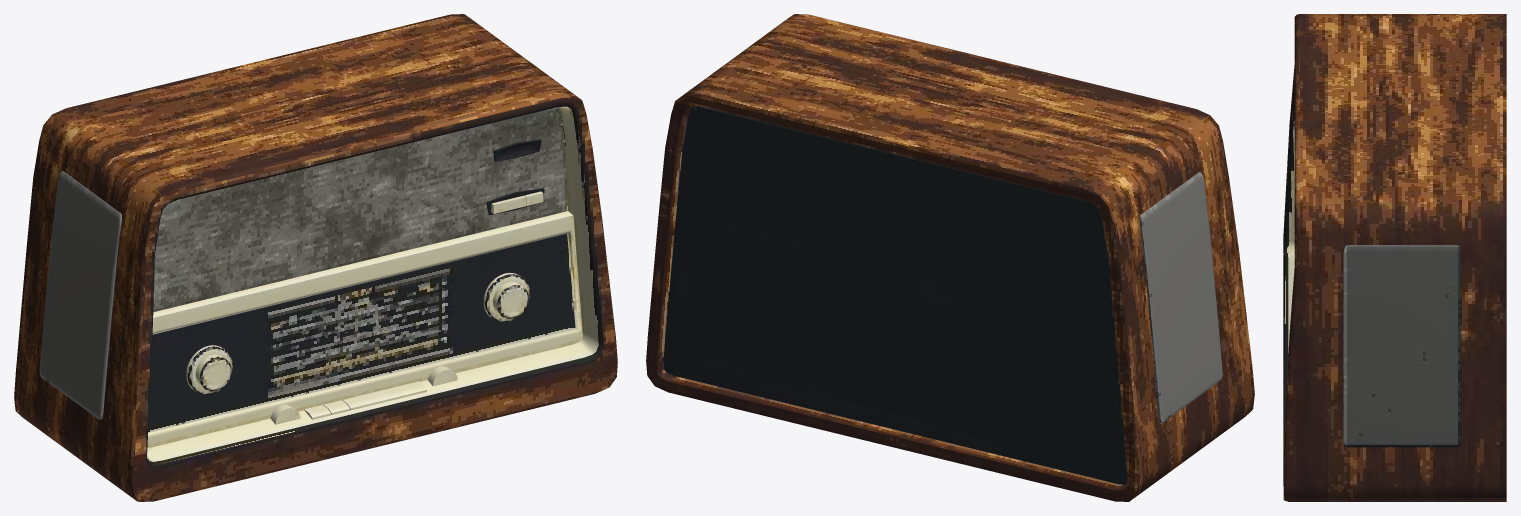
Rendered from g_radio.glb.
The picture shows the model from 3 angles, left to right: view 1: azimuth 30°, elevation 25°; view 2: azimuth 150°, elevation 25°; view 3: azimuth 270°, elevation 25°; orthographic projection. The views are drawn at different scales.
Parts seen in each view (by area): view 1: mesh; view 2: mesh; view 3: mesh.
Part boxes in pixels (x1,y1,x2,y2): mesh: (14,14,617,501); mesh: (646,14,1254,501); mesh: (1283,14,1506,501).
Bounding box in the file's own units: 0.3383 × 0.2 × 0.1403.
Materials: 1 (1 with a texture image).
